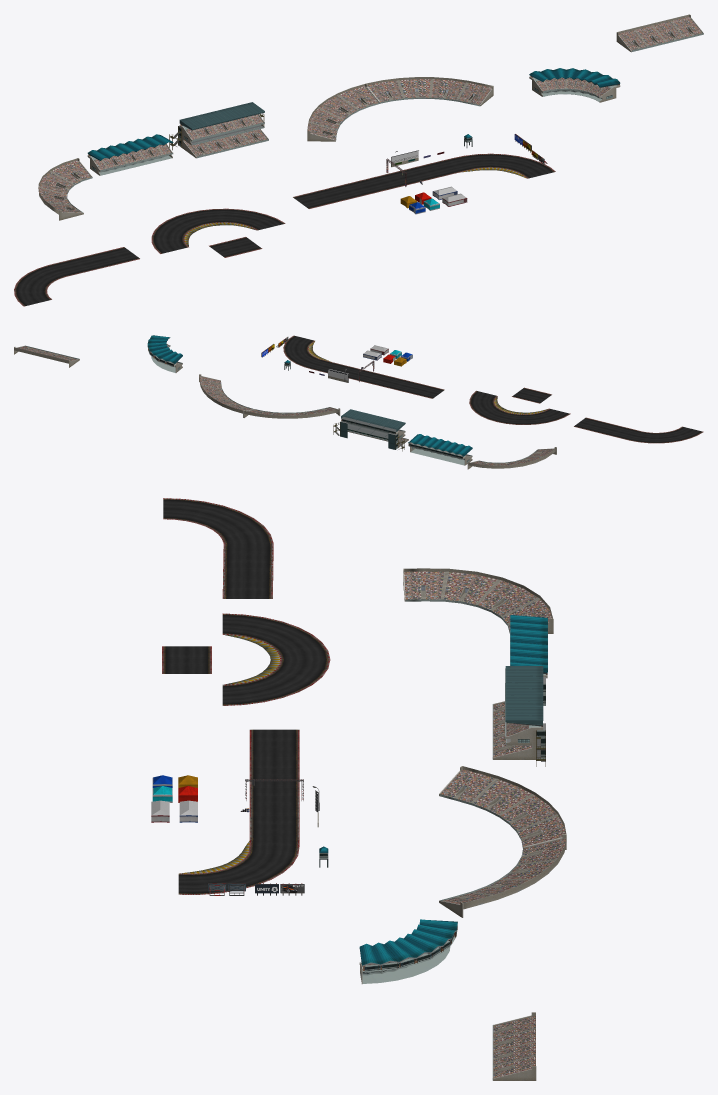
The model's file is Racing_Assets1.fbx.
3 renders of one model, top to bottom at view 1: azimuth 30°, elevation 25°; view 2: azimuth 150°, elevation 25°; view 3: azimuth 270°, elevation 25°, orthographic. The views are drawn at different scales.
Parts seen in each view (by area): view 1: Crowd_stand_4, Crowd_stand_3, Road_Bit_2, Road_Bit_3, Road_Bit_1, Crowd_stand_5, Crowd_stand_2, Crowd_stand_1, Crowd_stand_6, Road_Bit_4, Road_bit_5; view 2: Crowd_stand_3, Road_Bit_2, Road_Bit_1, Crowd_stand_4, Road_Bit_3, Crowd_stand_2, Road_Bit_4, Crowd_stand_5, Crowd_stand_1, Crowd_stand_6, Road_bit_5; view 3: Crowd_stand_4, Road_Bit_2, Road_Bit_3, Road_Bit_1, Crowd_stand_1, Crowd_stand_3, Crowd_stand_5, Road_Bit_4, Crowd_stand_6, Crowd_stand_2, Road_bit_5.
Boxes of the visible parts, left/top/right/bottom form: Crowd_stand_4: left=307, top=77, right=493, bottom=141; Crowd_stand_3: left=169, top=102, right=268, bottom=158; Road_Bit_2: left=151, top=208, right=285, bottom=253; Road_Bit_3: left=293, top=160, right=458, bottom=208; Road_Bit_1: left=14, top=247, right=139, bottom=306; Crowd_stand_5: left=529, top=68, right=620, bottom=102; Crowd_stand_2: left=87, top=134, right=173, bottom=175; Crowd_stand_1: left=38, top=158, right=92, bottom=220; Crowd_stand_6: left=616, top=14, right=703, bottom=52; Road_Bit_4: left=442, top=153, right=555, bottom=178; Road_bit_5: left=209, top=237, right=262, bottom=257; Crowd_stand_3: left=333, top=409, right=408, bottom=451; Road_Bit_2: left=469, top=390, right=570, bottom=424; Road_Bit_1: left=574, top=417, right=703, bottom=443; Crowd_stand_4: left=199, top=374, right=340, bottom=418; Road_Bit_3: left=319, top=362, right=444, bottom=398; Crowd_stand_2: left=408, top=434, right=472, bottom=465; Road_Bit_4: left=283, top=335, right=331, bottom=370; Crowd_stand_5: left=147, top=335, right=182, bottom=372; Crowd_stand_1: left=467, top=447, right=556, bottom=469; Crowd_stand_6: left=14, top=345, right=79, bottom=367; Road_bit_5: left=512, top=387, right=551, bottom=403; Crowd_stand_4: left=439, top=766, right=566, bottom=917; Road_Bit_2: left=222, top=613, right=330, bottom=705; Road_Bit_3: left=249, top=729, right=299, bottom=840; Road_Bit_1: left=163, top=498, right=273, bottom=598; Crowd_stand_1: left=403, top=568, right=553, bottom=633; Crowd_stand_3: left=492, top=666, right=545, bottom=766; Crowd_stand_5: left=359, top=919, right=457, bottom=984; Road_Bit_4: left=178, top=840, right=299, bottom=894; Crowd_stand_6: left=492, top=1012, right=536, bottom=1080; Crowd_stand_2: left=510, top=615, right=547, bottom=678; Road_bit_5: left=162, top=646, right=211, bottom=673.
Bounding box in the file's own units: 608 × 19.5 × 183.
